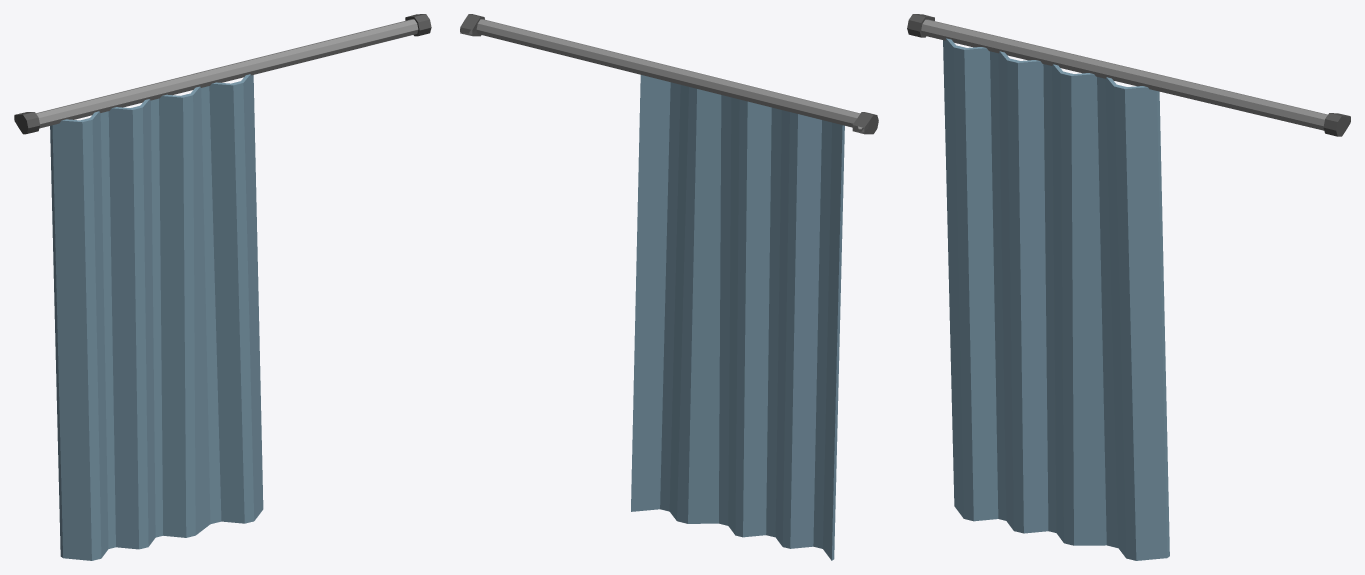
Rendered from Curtains_11.fbx.
3 renders of one model, left to right at view 1: azimuth 30°, elevation 25°; view 2: azimuth 150°, elevation 25°; view 3: azimuth 330°, elevation 25°, orthographic. The views are drawn at different scales.
Visible parts, largest first — view 1: Curtains_11; view 2: Curtains_11; view 3: Curtains_11.
Part boxes in pixels (x1,y1,x2,y2): Curtains_11: (14,14,431,560); Curtains_11: (460,14,878,560); Curtains_11: (907,14,1350,560).
Bounding box in the file's own units: 305 × 25.55 × 329.
